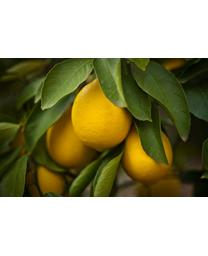lemon: (71, 76, 133, 150), (44, 109, 100, 167), (122, 125, 173, 184)
